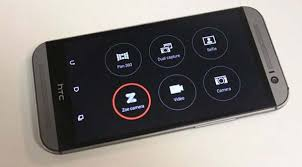htc: (26, 6, 294, 157)
